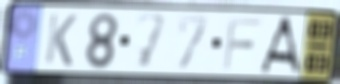7: (134, 11, 168, 72), (176, 13, 210, 72)
8: (84, 11, 121, 71)
A: (257, 15, 303, 76)
F: (220, 16, 264, 72)
K: (43, 11, 80, 68)
